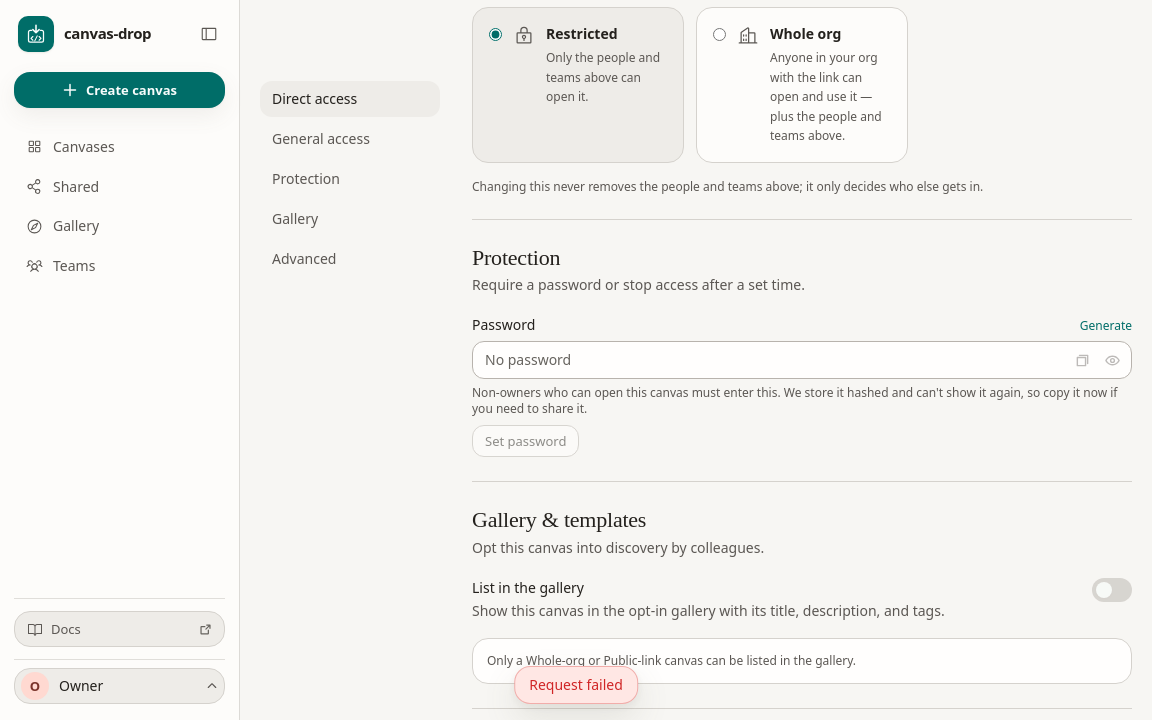
Test: share route › surfaces the server's CDN staleness warning as a toast (password path)
(page scrolled)
In the password field labelled "Password": coordinates (802, 360) [472,341,1132,379], type "hunter2"
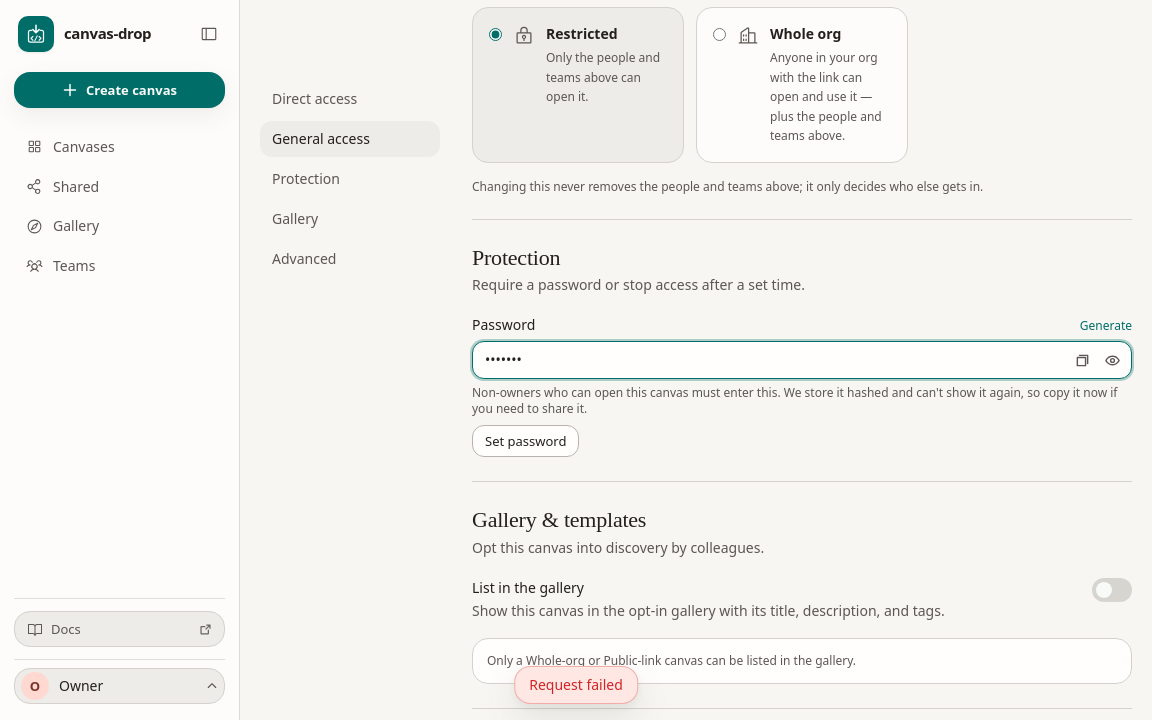
Click the button "Set password": coordinates (526, 441) [472,425,580,457]
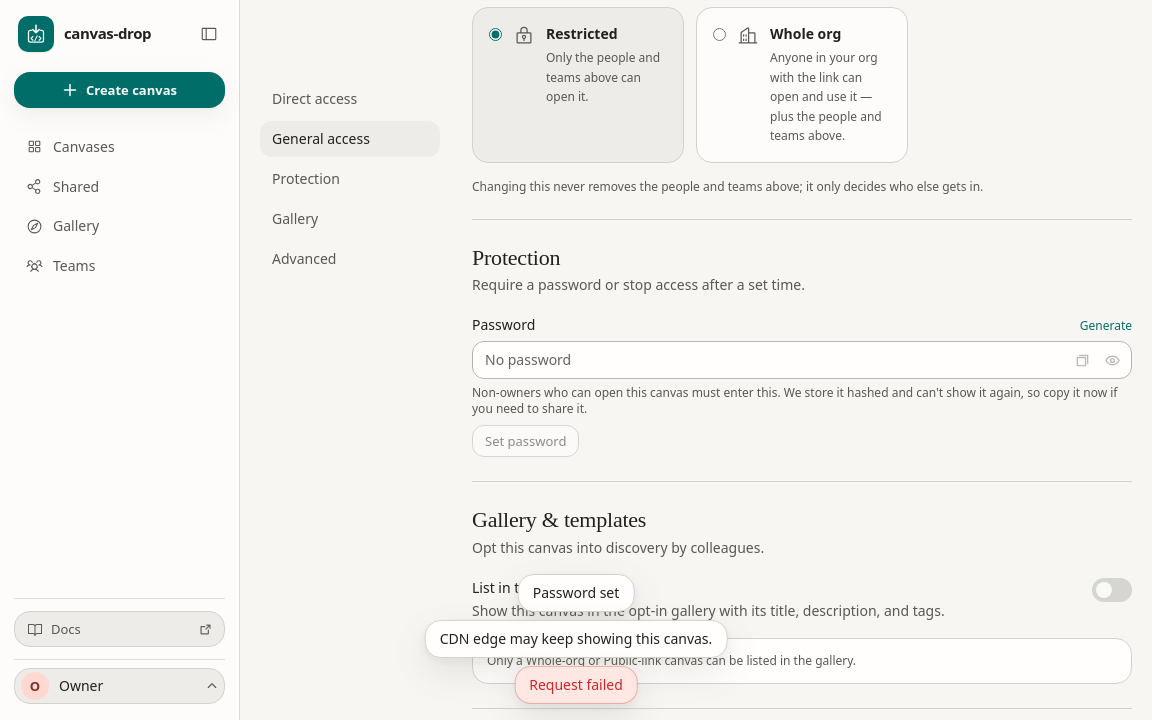
Check: the text "CDN edge may keep showing this canvas." is shown, box [425,620,727,658]
